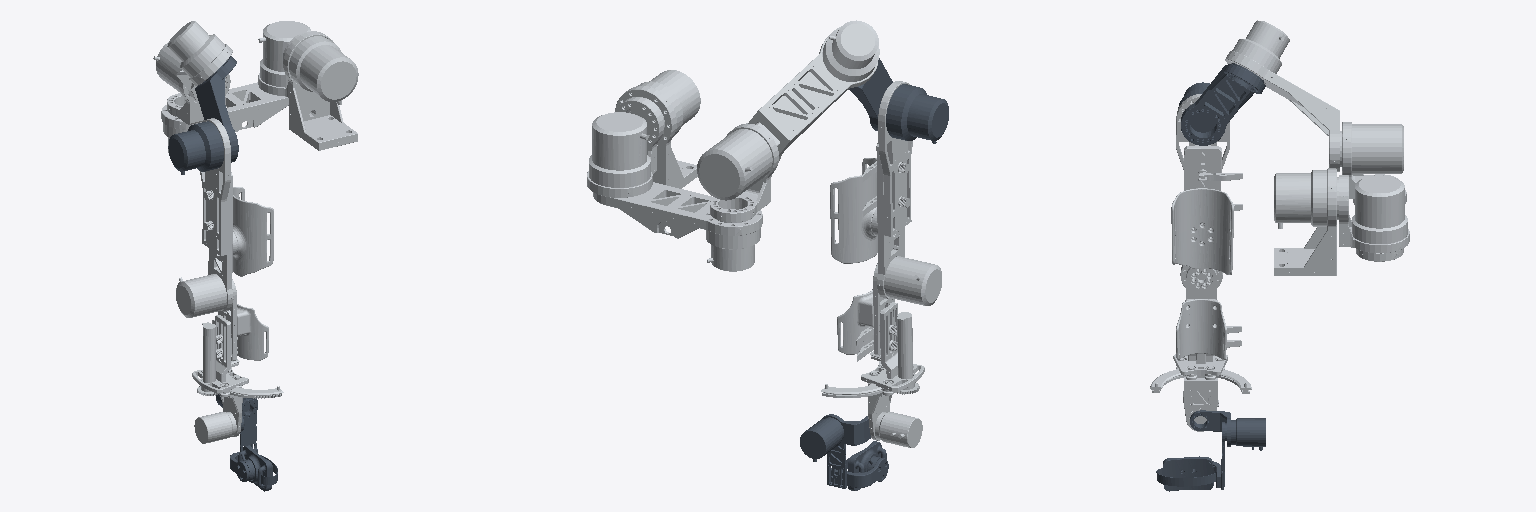
The robot description file, URDF, robot "right_robot_urdf":
<robot name="right_robot_urdf">

    <!-- ===== 材质定义 ===== -->
    <material name="dark_graphite">
        <color rgba="0.36 0.40 0.45 1.0" />
    </material>

    <material name="light_mist">
        <color rgba="0.82 0.84 0.86 1.0" />
    </material>

    <!-- ===== world ===== -->
    <link name="world" />

    <joint name="world_to_base_link_r" type="fixed">
        <parent link="world" />
        <child link="base_link_r" />
        <origin xyz="0 0 0" rpy="1.5708 0 0" />
    </joint>

    <!-- ===== base ===== -->
    <link name="base_link_r">
        <inertial>
            <origin xyz="1.23828241846147E-05 -0.0238441006521657 0.0400185416025263" rpy="0 0 0" />
            <mass value="2.05188213031591" />
            <inertia
                ixx="0.00338186267561101"
                ixy="-1.98106779434099E-07"
                ixz="-1.1442333540454E-07"
                iyy="0.00255633720568235"
                iyz="0.000421684069328773"
                izz="0.0027896564422976" />
        </inertial>
        <visual>
            <geometry>
                <mesh filename="package://robot_urdf/meshes/base_link_r.STL" />
            </geometry>
            <material name="light_mist" />
        </visual>
    </link>

    <!-- ===== link11 ===== -->
    <link name="link11">
        <inertial>
            <origin xyz="0.0269401262168213 5.40787661818115E-05 -0.0660170070715064" rpy="0 0 0" />
            <mass value="1.76165866886595" />
            <inertia
                ixx="0.00175017952683604"
                ixy="-7.53992382409753E-06"
                ixz="0.000197704588994068"
                iyy="0.00240514891782798"
                iyz="6.14959762436397E-06"
                izz="0.00224394628404164" />
        </inertial>
        <visual>
            <geometry>
                <mesh filename="package://robot_urdf/meshes/link11.STL" />
            </geometry>
            <material name="light_mist" />
        </visual>
    </link>

    <joint name="joint11" type="revolute">
        <parent link="base_link_r" />
        <child link="link11" />
        <origin xyz="0 0 0" rpy="0 0 -1.5708" />
        <axis xyz="0 0 -1" />
        <limit lower="-3.1416" upper="3.1416" effort="50" velocity="2" />
    </joint>

    <!-- ===== link12 ===== -->
    <link name="link12">
        <inertial>
            <origin xyz="0.145374163049524 -9.51641065795039E-05 -0.0334622319142412" rpy="0 0 0" />
            <mass value="1.37141186154909" />
            <inertia
                ixx="0.0010548836624877"
                ixy="9.9633108201827E-06"
                ixz="2.3687974806581E-05"
                iyy="0.00301673017999192"
                iyz="3.67036646020439E-08"
                izz="0.00328677370856242" />
        </inertial>
        <visual>
            <geometry>
                <mesh filename="package://robot_urdf/meshes/link12.STL" />
            </geometry>
            <material name="light_mist" />
        </visual>
    </link>

    <joint name="joint12" type="revolute">
        <parent link="link11" />
        <child link="link12" />
        <origin xyz="0.0715 0 -0.0735" rpy="1.5708 0 -1.5708" />
        <axis xyz="0 0 -1" />
        <limit lower="-3.1416" upper="3.1416" effort="50" velocity="2" />
    </joint>

    <!-- ===== link13 ===== -->
    <link name="link13">
        <inertial>
            <origin xyz="0.012180710183303 4.0054092324493E-05 -0.0707572400627897" rpy="0 0 0" />
            <mass value="1.50899706546337" />
            <inertia
                ixx="0.0014371169591962"
                ixy="5.52532832571266E-07"
                ixz="0.000133514492397744"
                iyy="0.00184246169804185"
                iyz="1.78018199689252E-06"
                izz="0.00163975961571771" />
        </inertial>
        <visual>
            <geometry>
                <mesh filename="package://robot_urdf/meshes/link13.STL" />
            </geometry>
            <material name="light_mist" />
        </visual>
    </link>

    <joint name="joint13" type="revolute">
        <parent link="link12" />
        <child link="link13" />
        <origin xyz="0.19 0 -0.01" rpy="3.1416 0 1.5708" />
        <axis xyz="0 0 -1" />
        <limit lower="-3.1416" upper="3.1416" effort="50" velocity="2" />
    </joint>

    <!-- ===== link14 ===== -->
    <link name="link14">
        <inertial>
            <origin xyz="0.120774205883015 0.000151282413036663 -0.106749434087542" rpy="0 0 0" />
            <mass value="1.29675735341483" />
            <inertia
                ixx="0.00222061356608695"
                ixy="-1.09001234795866E-05"
                ixz="0.00111795103402792"
                iyy="0.00319531299775684"
                iyz="1.35481357048357E-05"
                izz="0.00201300431402484" />
        </inertial>
        <visual>
            <geometry>
                <mesh filename="package://robot_urdf/meshes/link14.STL" />
            </geometry>
            <material name="light_mist" />
        </visual>
    </link>

    <joint name="joint14" type="revolute">
        <parent link="link13" />
        <child link="link14" />
        <origin xyz="0.0545 0 -0.08" rpy="-1.5708 0.95993 1.5708" />
        <axis xyz="0 0 -1" />
        <limit lower="-3.1416" upper="3.1416" effort="50" velocity="2" />
    </joint>

    <!-- ===== link15 ===== -->
    <link name="link15">
        <inertial>
            <origin xyz="0.0995543273260502 0.00121354719829875 -0.0688253542583596" rpy="0 0 0" />
            <mass value="1.11204562429068" />
            <inertia
                ixx="0.00117767082238003"
                ixy="-3.55310570774042E-06"
                ixz="0.00038364555302435"
                iyy="0.00156391367979807"
                iyz="3.3673416377115E-06"
                izz="0.00117624797013606" />
        </inertial>
        <visual>
            <geometry>
                <mesh filename="package://robot_urdf/meshes/link15.STL" />
            </geometry>
            <material name="dark_graphite" />
        </visual>
    </link>

    <joint name="joint15" type="revolute">
        <parent link="link14" />
        <child link="link15" />
        <origin xyz="0.12776 0 -0.15315" rpy="-1.0218 0.29022 -1.3975" />
        <axis xyz="0 0 -1" />
        <limit lower="-3.1416" upper="3.1416" effort="50" velocity="2" />
    </joint>

    <!-- ===== link16 ===== -->
    <link name="link16">
        <inertial>
            <origin xyz="0.188305464824312 0.00123899166821426 0.00676301005604052" rpy="0 0 0" />
            <mass value="1.31188159435395" />
            <inertia
                ixx="0.000730808005316685"
                ixy="-7.7319611760853E-06"
                ixz="2.72359411455231E-06"
                iyy="0.00320767182137867"
                iyz="-1.40629299905246E-06"
                izz="0.00343446572612194" />
        </inertial>
        <visual>
            <geometry>
                <mesh filename="package://robot_urdf/meshes/link16.STL" />
            </geometry>
            <material name="light_mist" />
        </visual>
    </link>

    <joint name="joint16" type="revolute">
        <parent link="link15" />
        <child link="link16" />
        <origin xyz="0.092667 0.0011397 -0.094019" rpy="-0.78866 0.78212 -0.94763" />
        <axis xyz="0 0 -1" />
        <limit lower="-3.1416" upper="3.1416" effort="50" velocity="2" />
    </joint>

    <!-- ===== link17 ===== -->
    <link name="link17">
        <inertial>
            <origin xyz="0.100631316054663 -0.000904211691577866 -0.000813809736306015" rpy="0 0 0" />
            <mass value="0.571738143768303" />
            <inertia
                ixx="0.000166218868809159"
                ixy="-7.31834536086717E-07"
                ixz="8.78591862622777E-06"
                iyy="0.000533104801429614"
                iyz="4.94611825837365E-08"
                izz="0.00060188187001663" />
        </inertial>
        <visual>
            <geometry>
                <mesh filename="package://robot_urdf/meshes/link17.STL" />
            </geometry>
            <material name="light_mist" />
        </visual>
    </link>

    <joint name="joint17" type="revolute">
        <parent link="link16" />
        <child link="link17" />
        <origin xyz="0.26899 0.0024866 -0.008" rpy="0 0 0.009244" />
        <axis xyz="0 0 -1" />
        <limit lower="-3.1416" upper="3.1416" effort="50" velocity="2" />
    </joint>

    <!-- ===== link18 ===== -->
    <link name="link18">
        <inertial>
            <origin xyz="-0.07338213628635 -0.000670378538812161 -0.0518898720457985" rpy="0 0 0" />
            <mass value="0.349780943732109" />
            <inertia
                ixx="0.000205602437110004"
                ixy="3.02619254611702E-07"
                ixz="5.94175125735939E-06"
                iyy="0.00016062475867432"
                iyz="5.22312936028204E-07"
                izz="0.000213385878435336" />
        </inertial>
        <visual>
            <geometry>
                <mesh filename="package://robot_urdf/meshes/link18.STL" />
            </geometry>
            <material name="light_mist" />
        </visual>
    </link>

    <joint name="joint18" type="fixed">
        <parent link="link17" />
        <child link="link18" />
        <origin xyz="0.17565 0 -0.075" rpy="-0.61395 1.5595 2.5184" />
    </joint>

    <!-- ===== link19 ===== -->
    <link name="link19">
        <inertial>
            <origin xyz="0.0667779277454601 2.40344166150402E-05 -0.0449323602751238" rpy="0 0 0" />
            <mass value="0.30118353904153" />
            <inertia
                ixx="8.67681257373081E-05"
                ixy="-2.07736751777049E-07"
                ixz="1.2963070335905E-05"
                iyy="0.000139106740219752"
                iyz="2.59341263318895E-08"
                izz="0.000127010372517135" />
        </inertial>
        <visual>
            <geometry>
                <mesh filename="package://robot_urdf/meshes/link19.STL" />
            </geometry>
            <material name="dark_graphite" />
        </visual>
    </link>

    <joint name="joint19" type="fixed">
        <parent link="link18" />
        <child link="link19" />
        <origin xyz="-0.051422 -0.00082402 -0.067526" rpy="-1.5616 0.0092081 1.5747" />
    </joint>

    <!-- ===== link20 ===== -->
    <link name="link20">
        <inertial>
            <origin xyz="0.066631518344278 0.0156759391509996 -0.0422582346525932" rpy="0 0 0" />
            <mass value="0.118428569858641" />
            <inertia
                ixx="5.35891631027921E-05"
                ixy="-3.67072413911993E-08"
                ixz="2.09125574651318E-06"
                iyy="8.85856430174915E-05"
                iyz="5.37605414491905E-06"
                izz="5.80975790503584E-05" />
        </inertial>
        <visual>
            <geometry>
                <mesh filename="package://robot_urdf/meshes/link20.STL" />
            </geometry>
            <material name="dark_graphite" />
        </visual>
    </link>

    <joint name="joint20" type="fixed">
        <parent link="link19" />
        <child link="link20" />
        <origin xyz="0.04495 0 -0.051" rpy="1.5708 0 1.5708" />
    </joint>

    <!-- ===== Force Torque Sensor ===== -->
    <link name="ft_rightsensor_frame">
        <visual>
            <geometry>
                <sphere radius="0.01" />
            </geometry>
            <material name="sensor_red">
                <color rgba="1 0 0 1" />
            </material>
        </visual>
    </link>

    <joint name="ft_rightsensor_joint" type="fixed">
        <parent link="link16" />
        <child link="ft_rightsensor_frame" />
        <origin xyz="0.18416 0 -0.01731" rpy="-3.1351 0 3.14159" />
    </joint>

    <link name="ft_rightsensor_frame_2">
        <visual>
            <geometry>
                <sphere radius="0.01" />
            </geometry>
            <material name="sensor_red">
                <color rgba="1 0 0 1" />
            </material>
        </visual>
    </link>

    <joint name="ft_rightsensor_joint_2" type="fixed">
        <parent link="link20" />
        <child link="ft_rightsensor_frame_2" />
        <origin xyz="0.082 0.0287 -0.06447 " rpy="1.5708 0 3.14159" />
    </joint>

</robot>

--- Facts derived from the render (not from the file) ---
The picture shows the robot from 3 angles, left to right: view 1: azimuth 30°, elevation 25°; view 2: azimuth 150°, elevation 25°; view 3: azimuth 270°, elevation 25°; orthographic projection.
Model right_robot_urdf with 14 links and 13 joints (7 revolute, 6 fixed), rooted at world, posed all joints at 0.
Visible links, largest first — view 1: link16, base_link_r, link17, link15, link14, link12, link11, link20, link18, link13; view 2: link16, link14, link12, link11, link13, link17, base_link_r, link15, link18, link20, link19; view 3: link16, base_link_r, link17, link11, link14, link15, link13, link20, link18, link19.
Boxes of the visible links, x1,y1,x2,y2 form: link16: [176, 118, 273, 317]; base_link_r: [283, 31, 358, 150]; link17: [192, 279, 268, 396]; link15: [168, 56, 238, 174]; link14: [167, 21, 232, 102]; link12: [161, 82, 288, 152]; link11: [258, 21, 310, 97]; link20: [230, 399, 277, 491]; link18: [194, 359, 283, 443]; link13: [153, 42, 203, 124]; link16: [830, 81, 941, 305]; link14: [748, 20, 879, 160]; link12: [593, 182, 762, 271]; link11: [587, 97, 664, 197]; link13: [697, 123, 778, 222]; link17: [837, 263, 924, 395]; base_link_r: [615, 70, 700, 188]; link15: [849, 58, 948, 143]; link18: [821, 351, 922, 447]; link20: [827, 418, 888, 490]; link19: [800, 414, 870, 461]; link16: [1171, 94, 1242, 287]; base_link_r: [1274, 168, 1336, 275]; link17: [1173, 268, 1241, 379]; link11: [1337, 175, 1409, 253]; link14: [1225, 20, 1341, 171]; link15: [1178, 63, 1265, 145]; link13: [1342, 122, 1403, 198]; link20: [1156, 422, 1226, 491]; link18: [1150, 369, 1251, 431]; link19: [1190, 410, 1265, 450].
Bounding box of the posed robot: 0.4228 × 0.4149 × 0.8021 m (x, y, z).
11 mesh visuals loaded from 11 distinct referenced files (11 binary STL).
